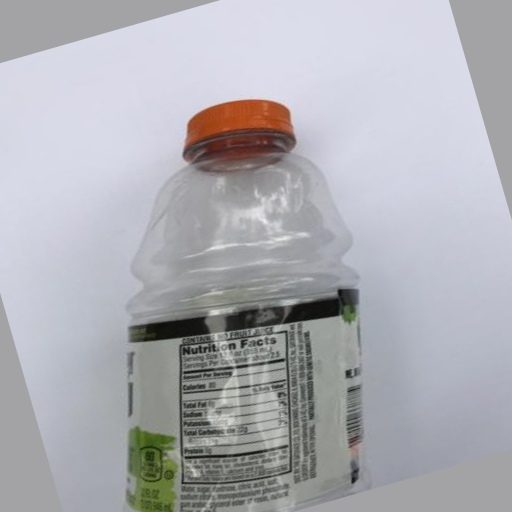Plastic_0: (125, 97, 367, 512)
